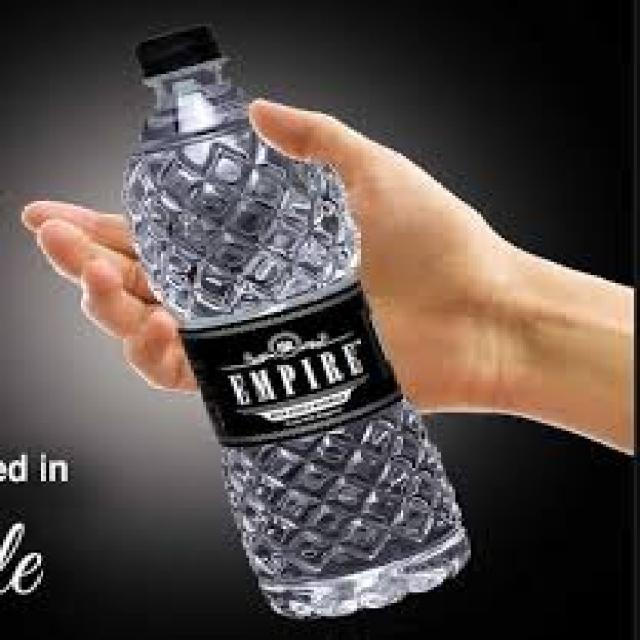bottle: (96, 34, 512, 633)
